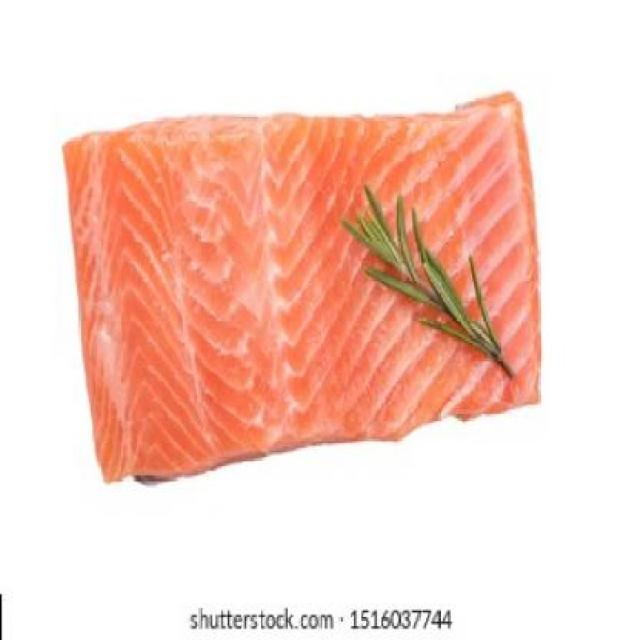salmon: (51, 89, 562, 492)
